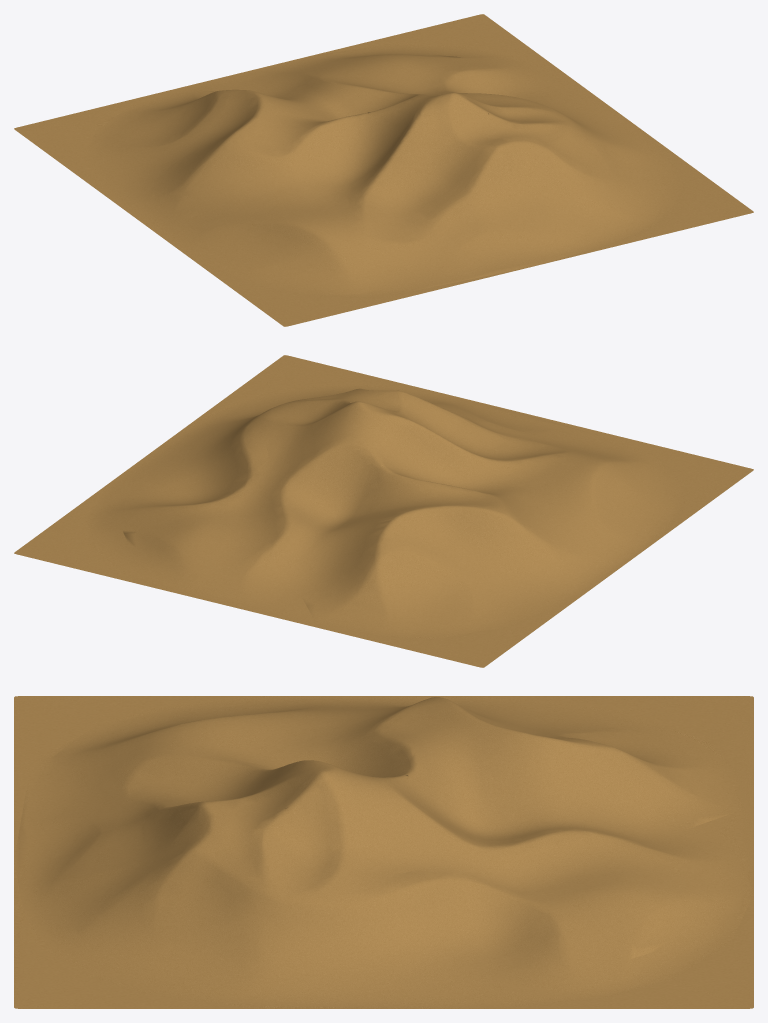
The model's file is Dunes_v02.glb.
The picture shows the model from 3 angles, top to bottom: view 1: azimuth 30°, elevation 25°; view 2: azimuth 150°, elevation 25°; view 3: azimuth 270°, elevation 25°; orthographic projection. The views are drawn at different scales.
Parts seen in each view (by area): view 1: Landscape; view 2: Landscape; view 3: Landscape.
Boxes of the visible parts, bbox=[...] form: Landscape: bbox=[14, 14, 753, 326]; Landscape: bbox=[14, 355, 753, 667]; Landscape: bbox=[14, 696, 753, 1008].
Size of the model in its own units: 4.82 by 0.7983 by 4.82.
Materials: 1 (1 with a texture image).
